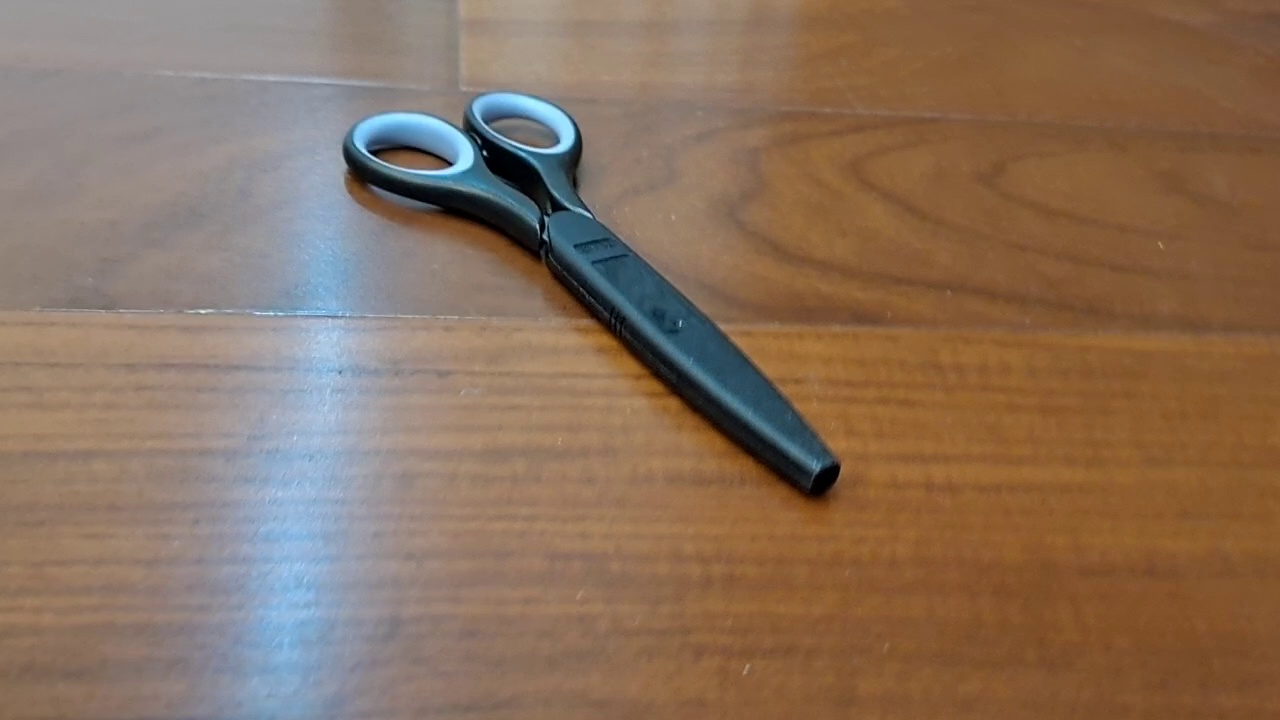scissors: (342, 90, 841, 500)
